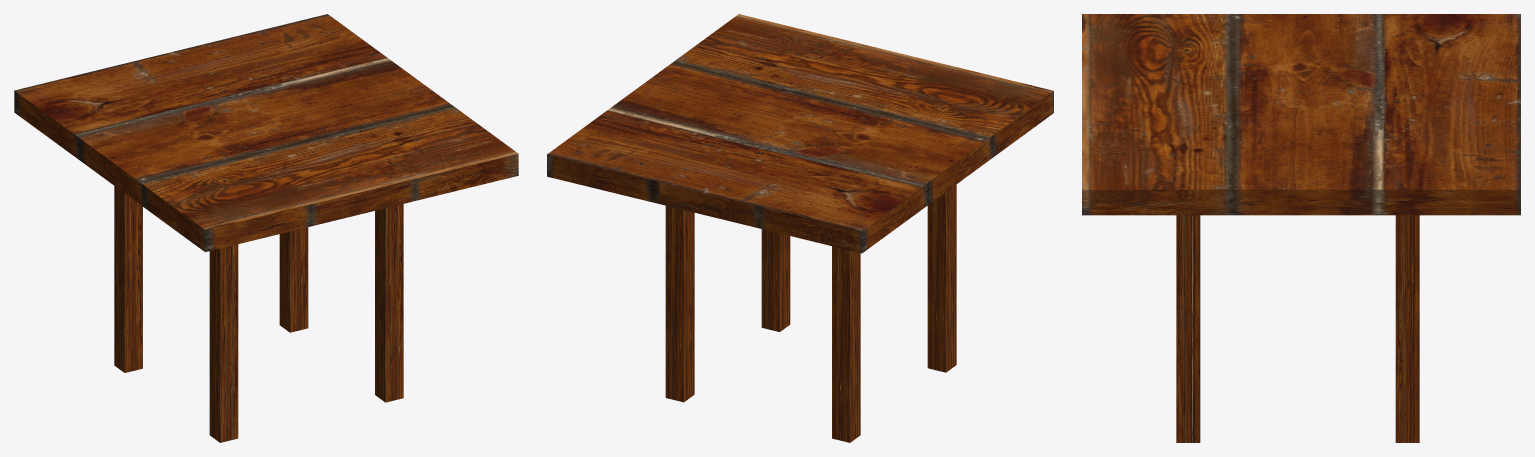
Rendered from table.glb.
3 renders of one model, left to right at view 1: azimuth 30°, elevation 25°; view 2: azimuth 150°, elevation 25°; view 3: azimuth 270°, elevation 25°, orthographic. The views are drawn at different scales.
Visible parts, largest first — view 1: Cube004, Cube, Cube002, Cube001, Cube003; view 2: Cube004, Cube003, Cube001, Cube, Cube002; view 3: Cube004, Cube002, Cube003.
Part boxes in pixels (x1,y1,x2,y2): Cube004: (14,14,518,252); Cube: (209,244,238,442); Cube002: (375,204,403,402); Cube001: (114,186,142,372); Cube003: (279,227,308,332); Cube004: (547,14,1053,253); Cube003: (665,205,694,402); Cube001: (832,246,860,442); Cube: (927,184,956,372); Cube002: (761,229,790,331); Cube004: (1082,14,1520,215); Cube002: (1176,215,1200,442); Cube003: (1395,215,1419,442).
Bounding box in the file's own units: 1.9 × 1.48 × 2.
5 materials, 5 textured.
